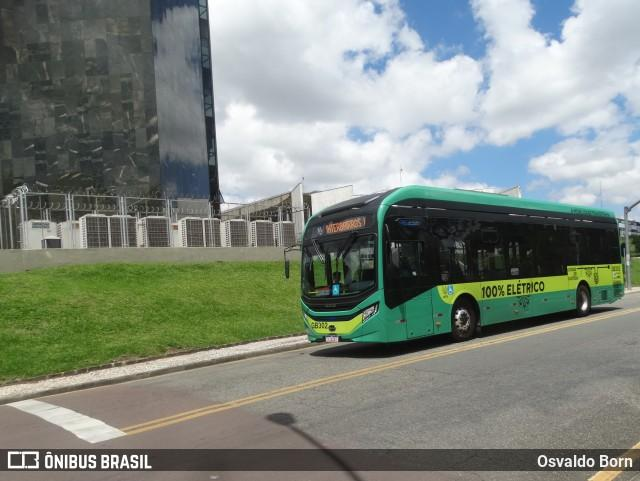INTERBAIRROS I: (321, 214, 369, 238)
